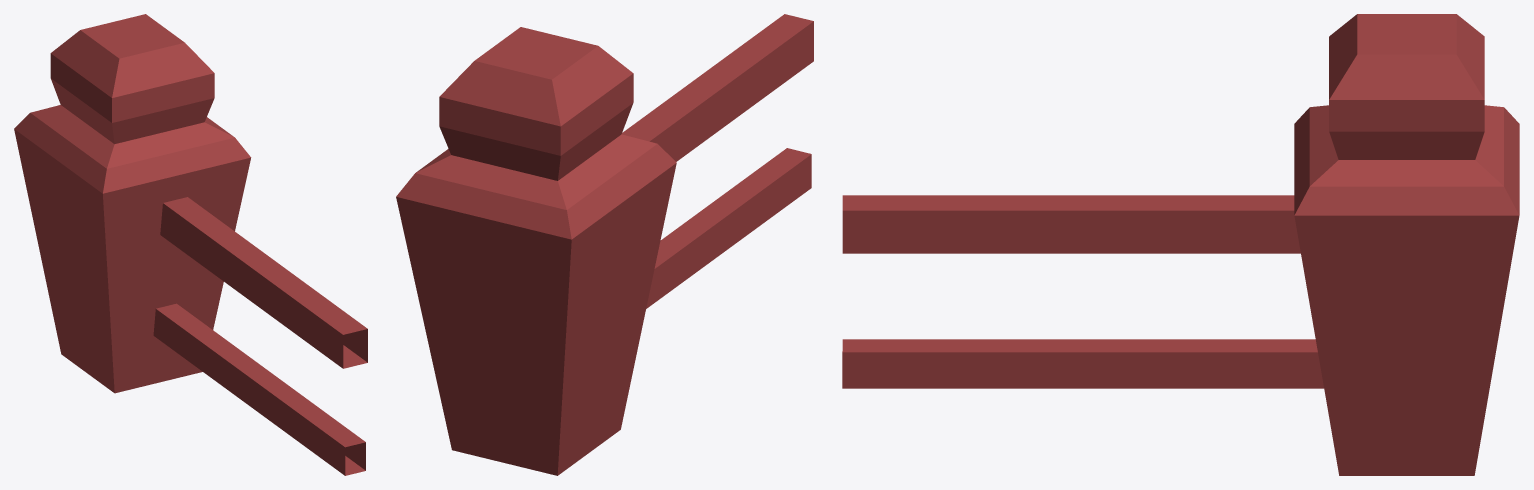
The model's file is en_gate.fbx.
3 views of the same model, side by side, from view 1: azimuth 30°, elevation 25°; view 2: azimuth 150°, elevation 25°; view 3: azimuth 270°, elevation 25° (orthographic). The views are drawn at different scales.
Parts seen in each view (by area): view 1: en_gate; view 2: en_gate; view 3: en_gate.
Part boxes in pixels (x1,y1,x2,y2): en_gate: [14, 14, 367, 475]; en_gate: [396, 14, 813, 475]; en_gate: [842, 14, 1519, 475].
Size of the model in its own units: 1.27 by 2.67 by 3.96.
